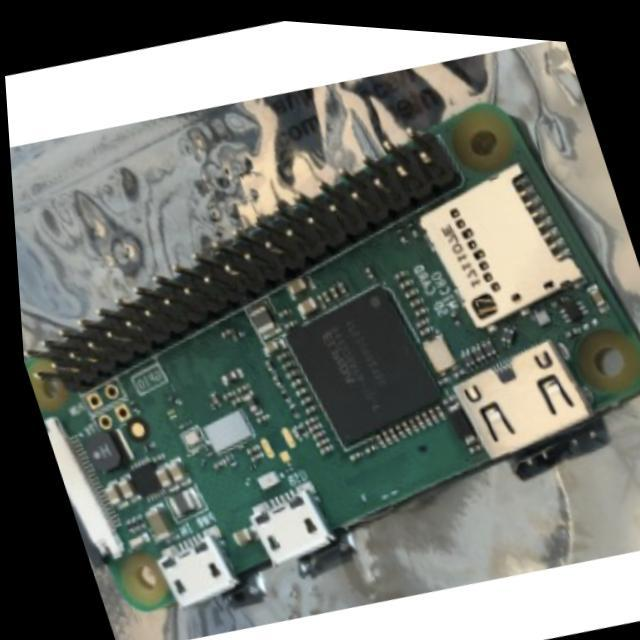Raspberry-Pi-Zero-WH: (28, 104, 640, 611)
